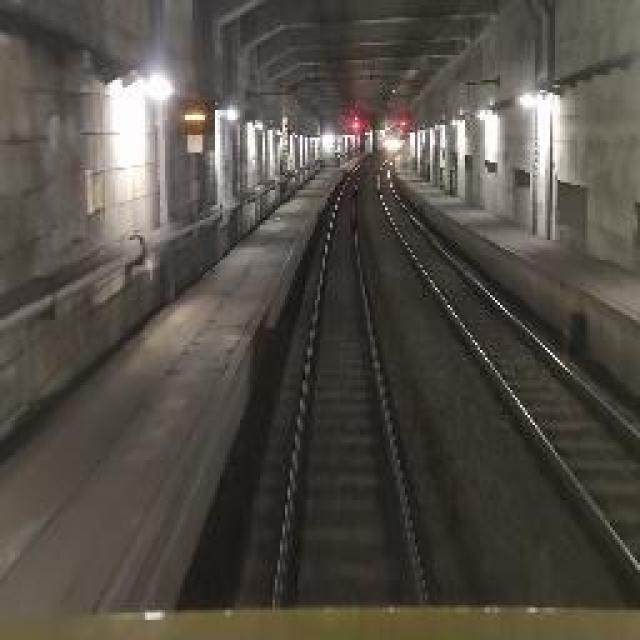rail: (235, 146, 457, 608)
